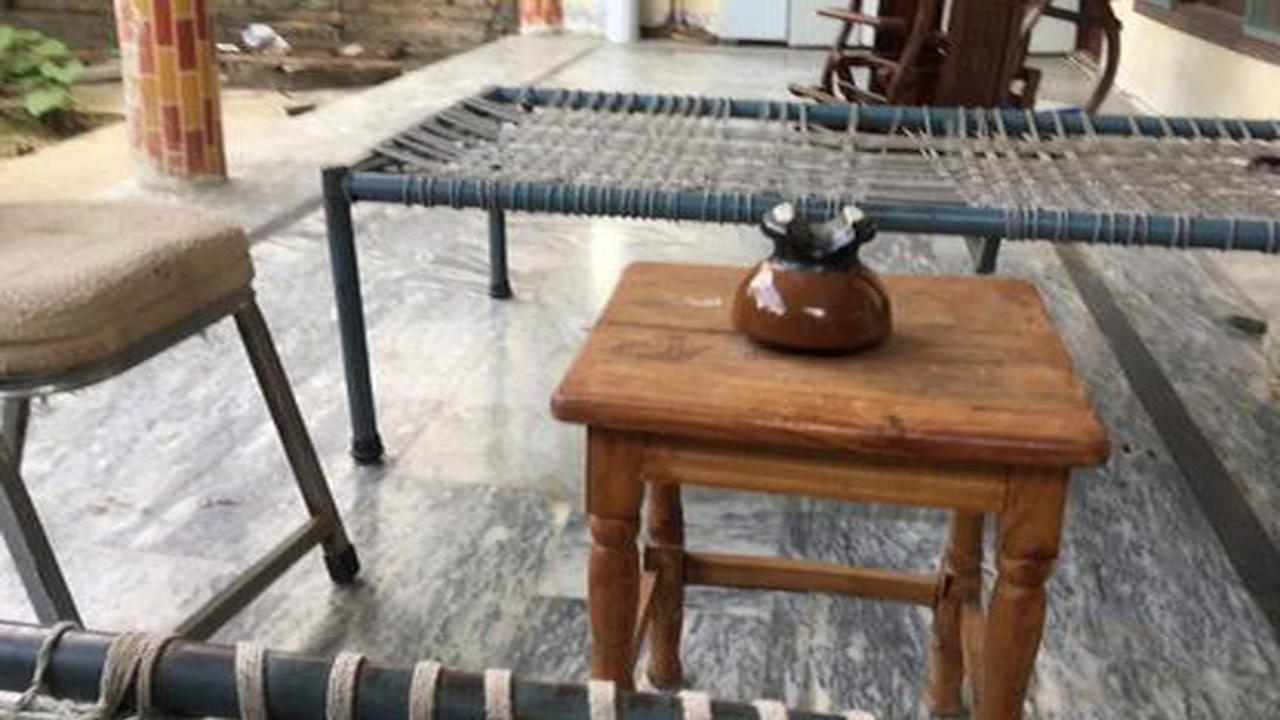insulator_pin: (724, 187, 899, 362)
